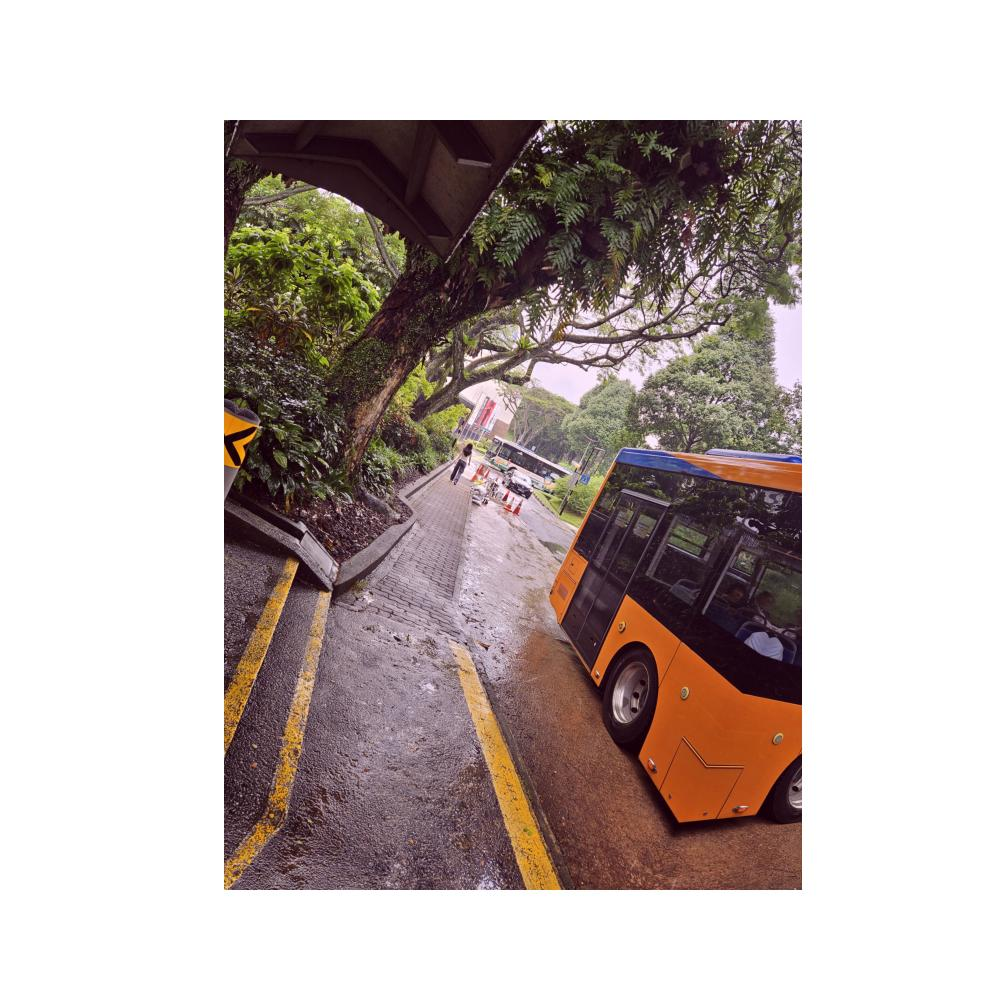bus: (543, 444, 799, 836)
